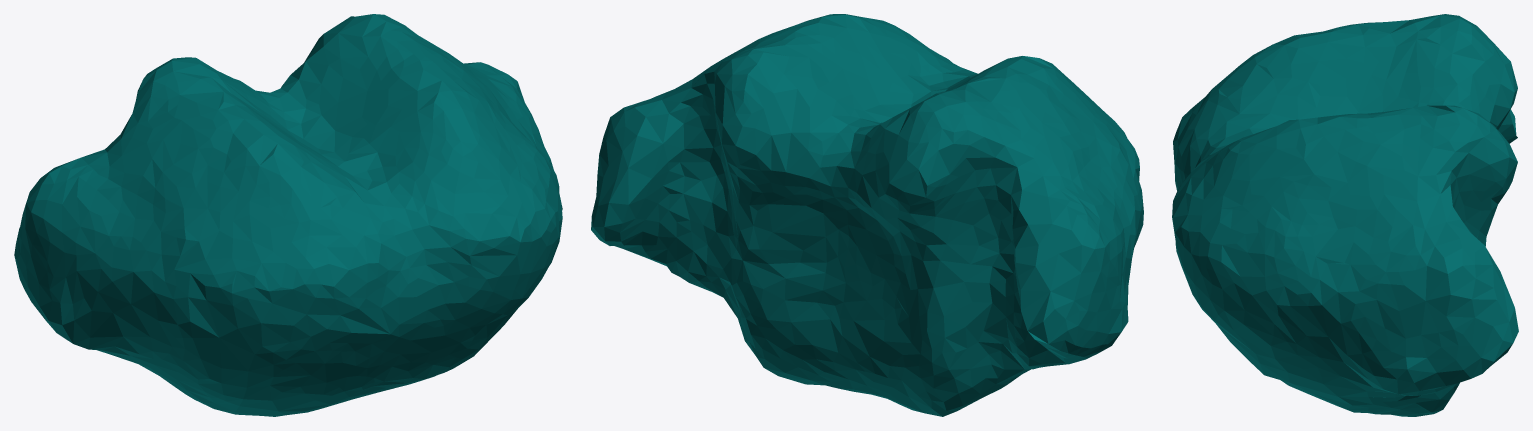
File: 82-Pn-pons-('0.0000', '0.4980', '0.4980').obj
3 renders of one model, left to right at view 1: azimuth 30°, elevation 25°; view 2: azimuth 150°, elevation 25°; view 3: azimuth 270°, elevation 25°, orthographic. The views are drawn at different scales.
Bounding box in the file's own units: 125 × 80.8 × 78.51.
